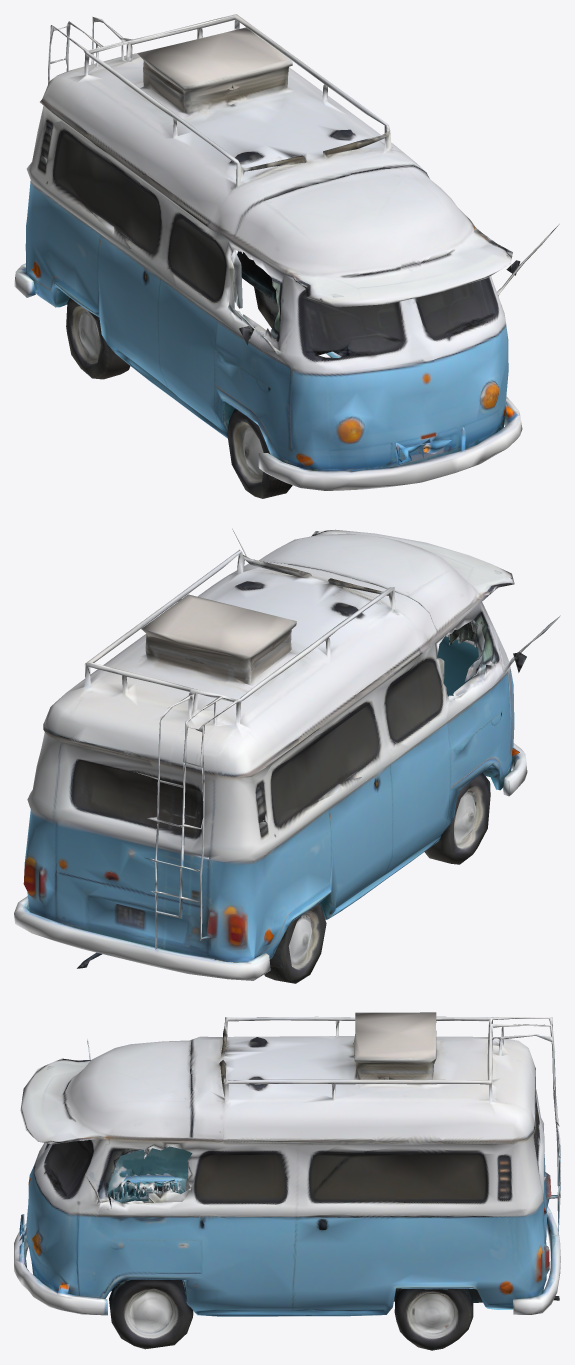
File: motokaravan_suburban_0705112812_texture.glb
3 renders of one model, top to bottom at view 1: azimuth 30°, elevation 25°; view 2: azimuth 150°, elevation 25°; view 3: azimuth 270°, elevation 25°, orthographic. The views are drawn at different scales.
Bounding box in the file's own units: 1.2 × 1.09 × 2.
Materials: 1 (1 with a texture image).
